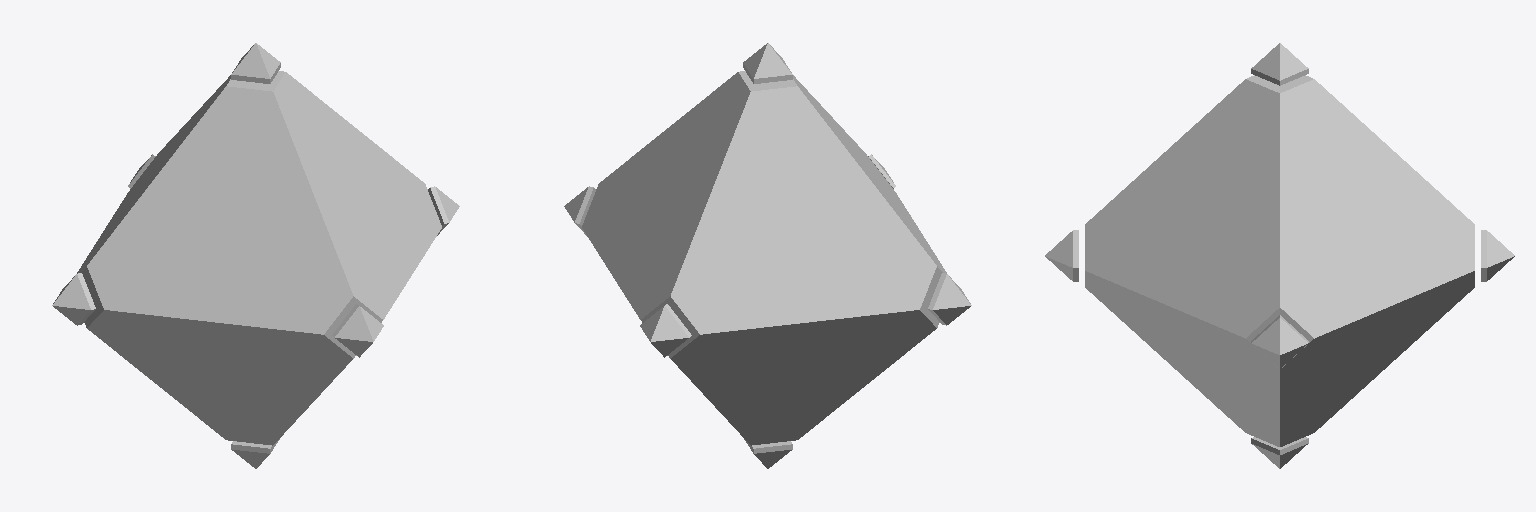
The picture shows the model from 3 angles: view 1: azimuth 30°, elevation 25°; view 2: azimuth 150°, elevation 25°; view 3: azimuth 270°, elevation 25°; orthographic projection.
Visible parts, largest first — view 1: Pyramid, Cap1, Cap3, CapU, CapD, Cap4; view 2: Pyramid, Cap2, Cap3, CapU, CapD, Cap4; view 3: Pyramid, Cap4, CapU, Cap2, Cap1, CapD.
Part boxes in pixels (x1,y1,x2,y2): Pyramid: (77, 71, 441, 445); Cap1: (332, 304, 383, 357); Cap3: (52, 273, 95, 325); CapU: (231, 43, 280, 83); CapD: (231, 439, 279, 468); Cap4: (428, 186, 459, 235); Pyramid: (582, 71, 946, 445); Cap2: (640, 304, 691, 357); Cap3: (928, 273, 971, 325); CapU: (743, 43, 792, 83); CapD: (744, 439, 792, 468); Cap4: (564, 186, 595, 235); Pyramid: (1085, 75, 1474, 446); Cap4: (1251, 315, 1308, 368); CapU: (1251, 43, 1308, 85); Cap2: (1481, 230, 1514, 281); Cap1: (1045, 230, 1078, 281); CapD: (1251, 437, 1308, 468).
Size of the model in its own units: 3280 by 3280 by 3280.